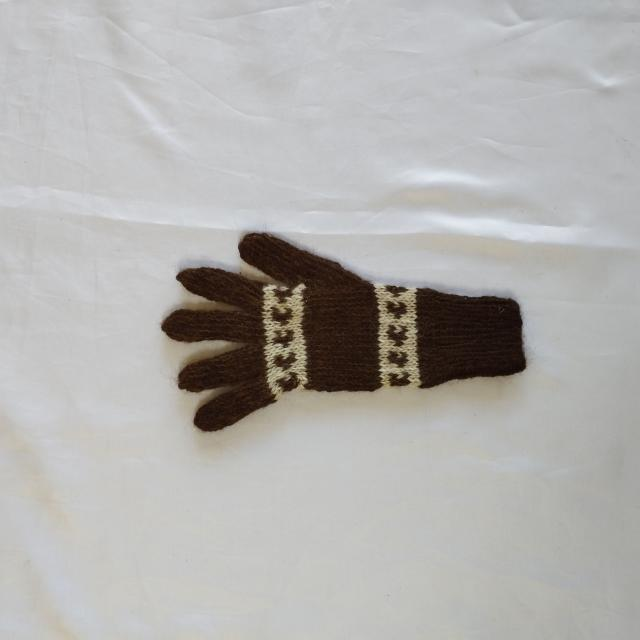Guante: (160, 230, 528, 433)
